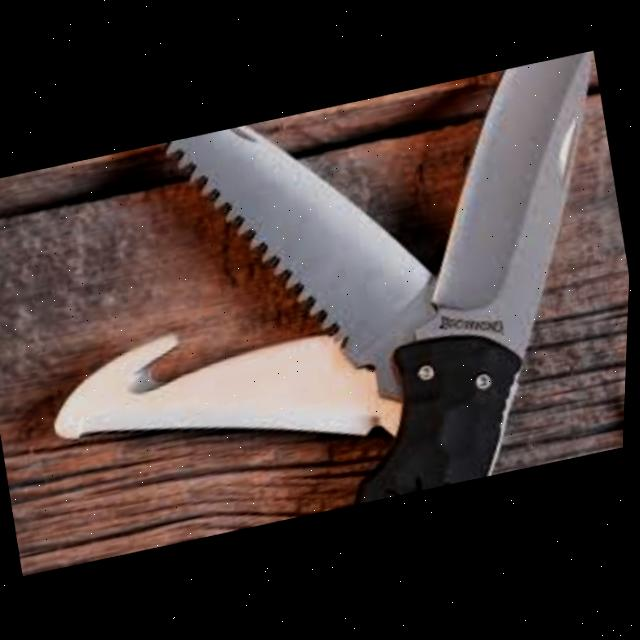Knife: (1, 52, 638, 567), (158, 91, 464, 443)
